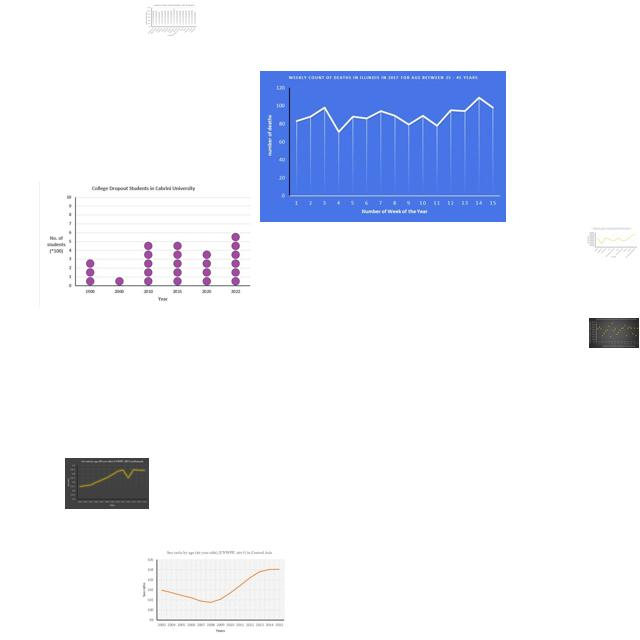Graph: (260, 71, 506, 222), (39, 182, 251, 307), (138, 548, 287, 634), (65, 458, 149, 509), (144, 4, 197, 36), (586, 227, 638, 258), (589, 318, 639, 348)
